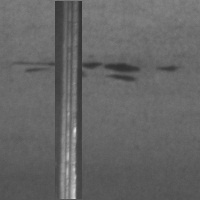inclusion: (9, 56, 147, 83), (151, 61, 183, 75)
scratches: (55, 1, 82, 199)
